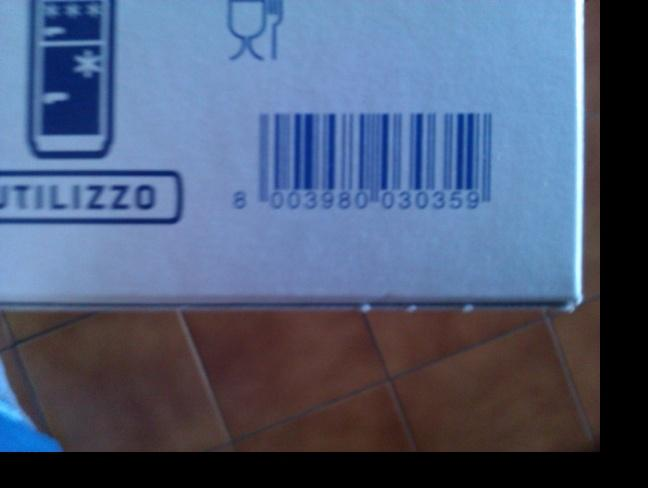Barcode: (224, 101, 513, 231)
